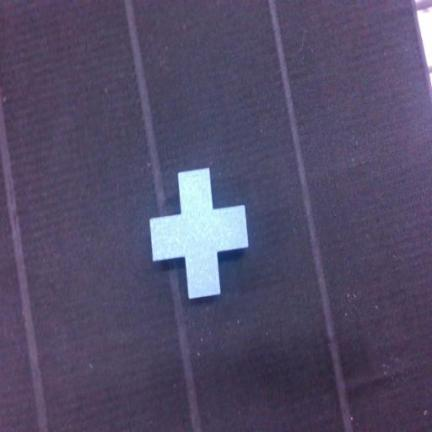cross: (151, 169, 248, 298)
